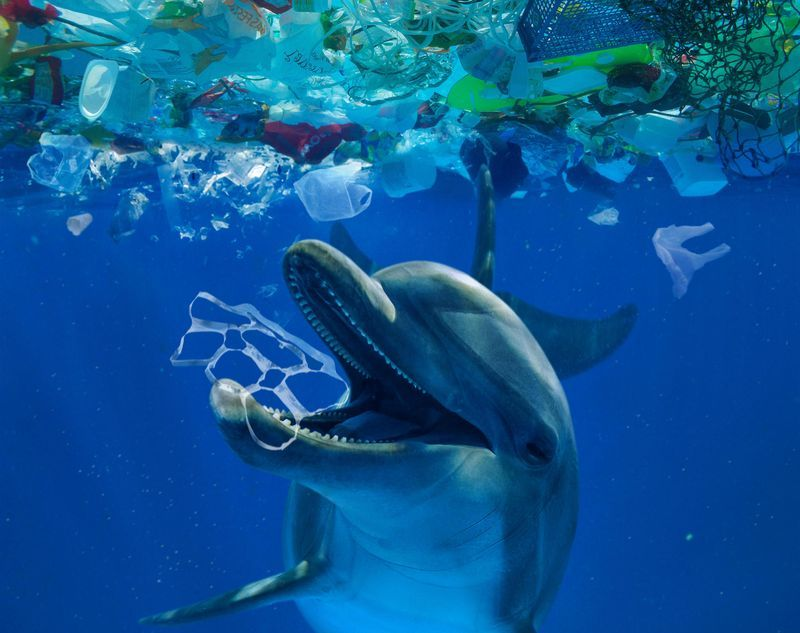Dolphin: (120, 185, 660, 633)
Net: (621, 1, 795, 174)
Plastic: (198, 2, 468, 150), (163, 280, 344, 476), (2, 2, 190, 66), (649, 214, 728, 308), (21, 130, 97, 199), (295, 165, 366, 222), (60, 214, 97, 235)
Tray: (512, 1, 707, 62), (659, 136, 728, 199)
